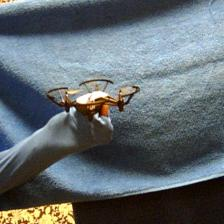drone: (47, 78, 141, 122)
